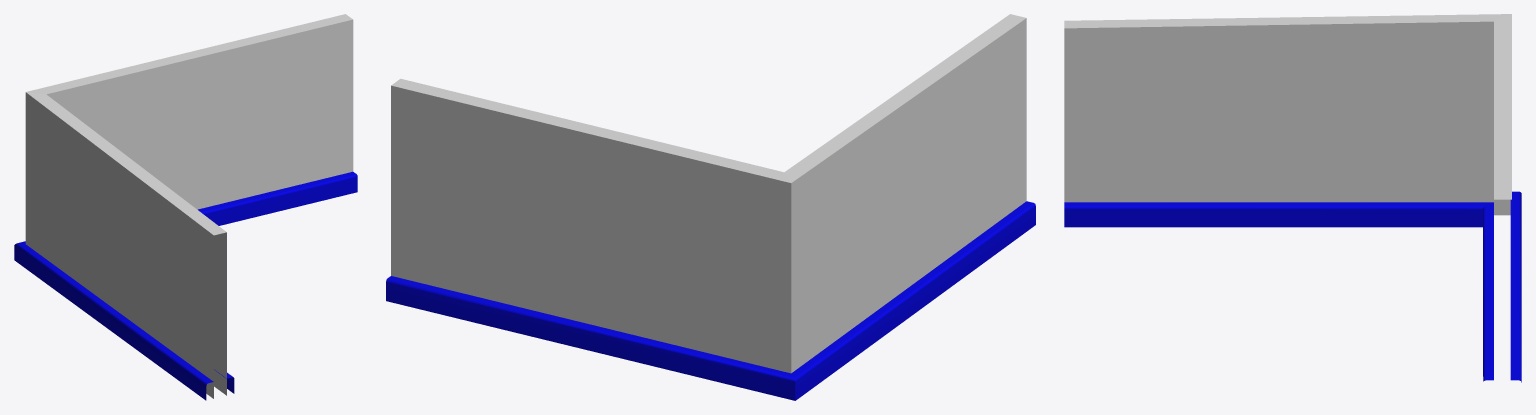
The model's file is HalfPlainWallCorner.fbx.
3 views of the same model, side by side, from view 1: azimuth 30°, elevation 25°; view 2: azimuth 150°, elevation 25°; view 3: azimuth 270°, elevation 25° (orthographic). The views are drawn at different scales.
Parts seen in each view (by area): view 1: Wall, Trim; view 2: Wall, Trim; view 3: Wall, Trim.
Boxes of the visible parts, x1,y1,x2,y2 form: Wall: (25, 14, 353, 398); Trim: (14, 171, 357, 400); Wall: (391, 14, 1026, 373); Trim: (386, 201, 1035, 400); Wall: (1064, 14, 1511, 215); Trim: (1064, 191, 1521, 382).
Bounding box in the file's own units: 12.56 × 6.21 × 12.77.
